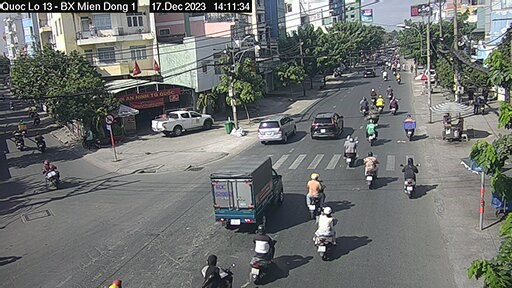car: (154, 108, 215, 141), (257, 111, 294, 142), (308, 109, 342, 141), (362, 61, 377, 82)
motorbike: (245, 227, 281, 278), (312, 208, 337, 259), (302, 174, 327, 217), (39, 160, 69, 189), (399, 159, 417, 193), (364, 154, 379, 191), (343, 137, 359, 169), (368, 118, 384, 146), (32, 131, 47, 153), (405, 119, 417, 142)
truck: (210, 154, 282, 228)
